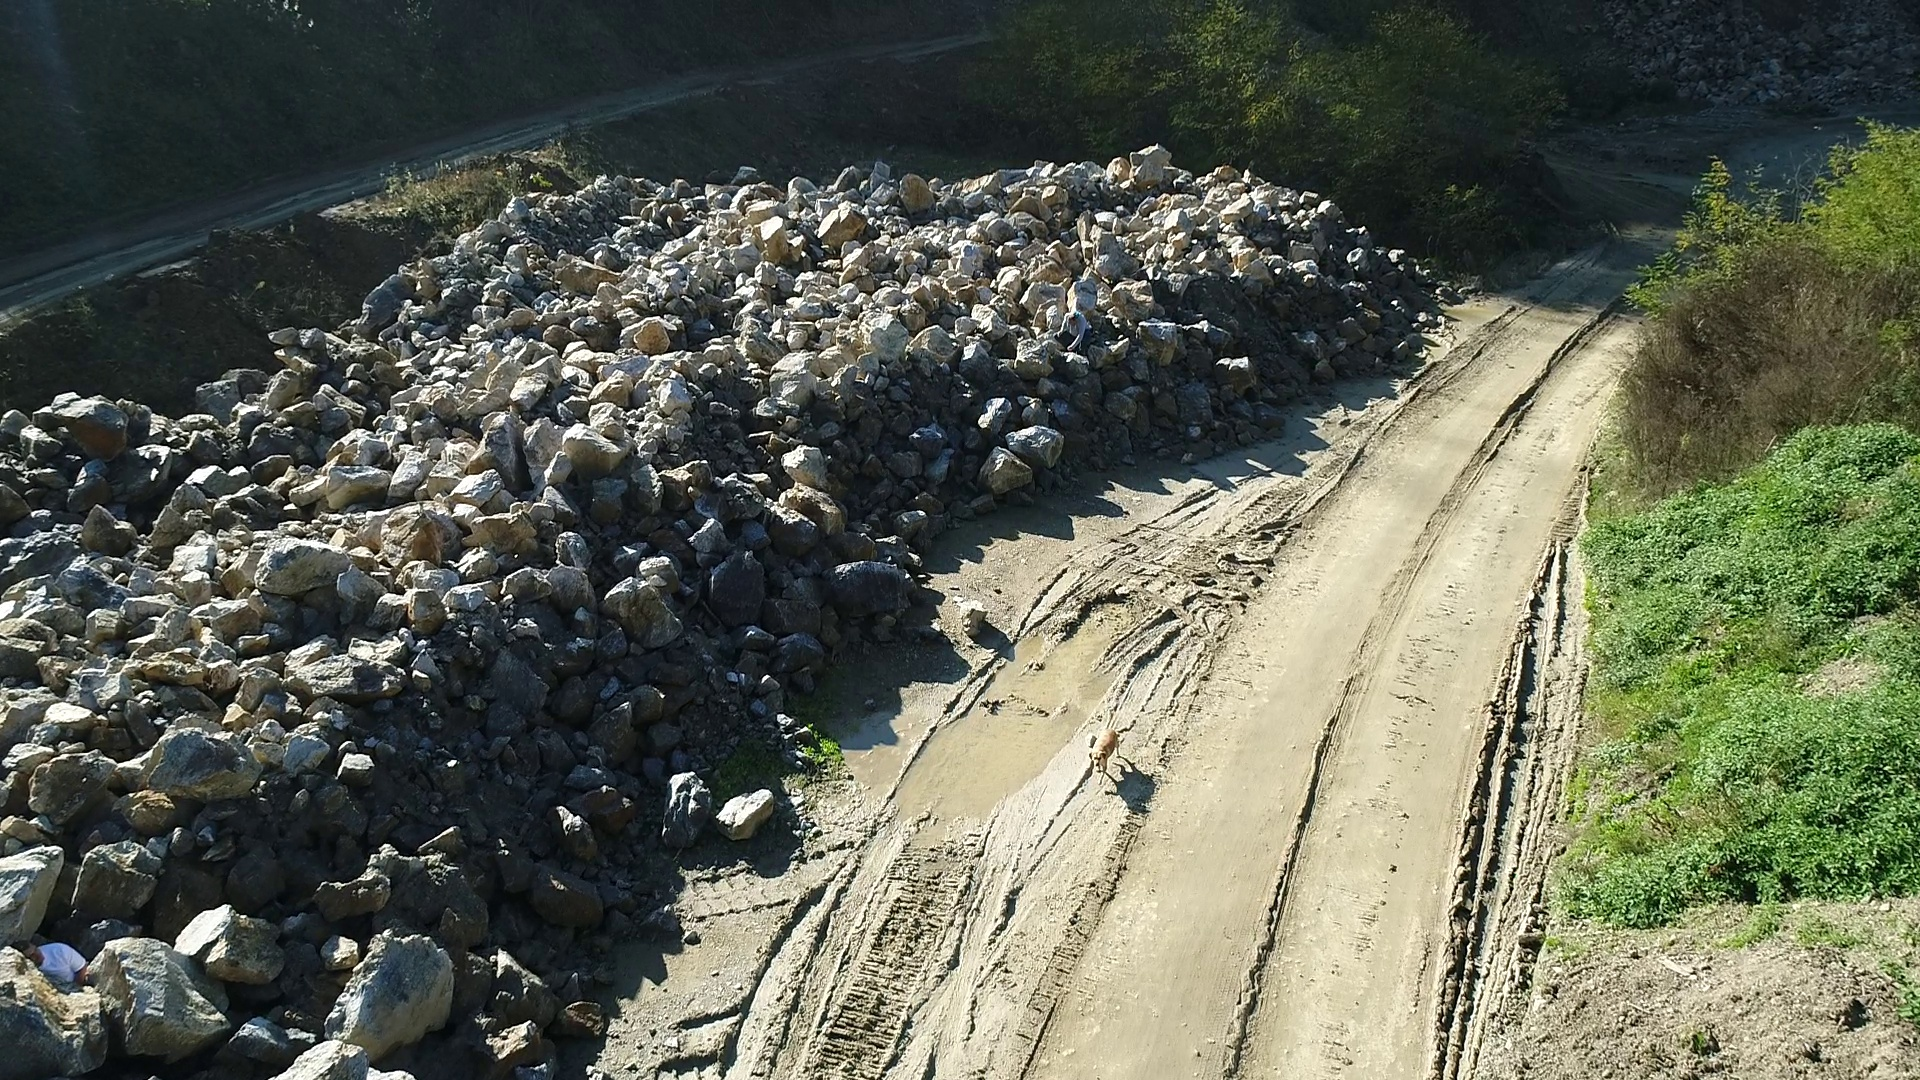not_defined: (12, 941, 88, 989)
person: (1054, 312, 1092, 356)
